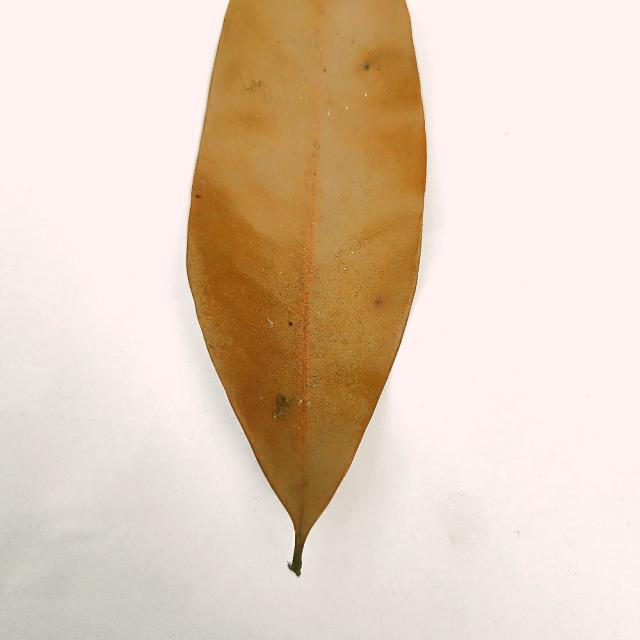Dry_Leaf-Lychee: (184, 0, 428, 577)
